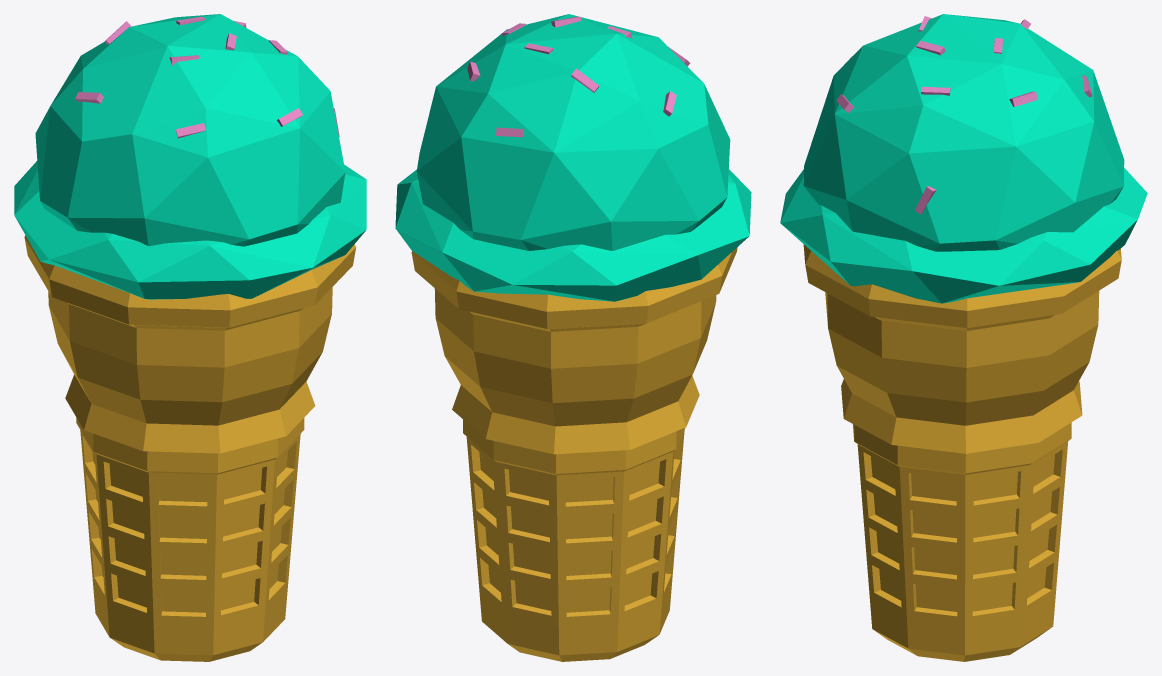
File: icecream2.fbx
The picture shows the model from 3 angles, left to right: view 1: azimuth 30°, elevation 25°; view 2: azimuth 150°, elevation 25°; view 3: azimuth 270°, elevation 25°; orthographic projection.
Visible parts, largest first — view 1: IceCream_3; view 2: IceCream_3; view 3: IceCream_3.
Part boxes in pixels (left/top/right/bottom): IceCream_3: left=14, top=14, right=366, bottom=661; IceCream_3: left=395, top=14, right=751, bottom=661; IceCream_3: left=780, top=14, right=1147, bottom=661.
Bounding box in the file's own units: 51.55 × 92.74 × 51.55.
